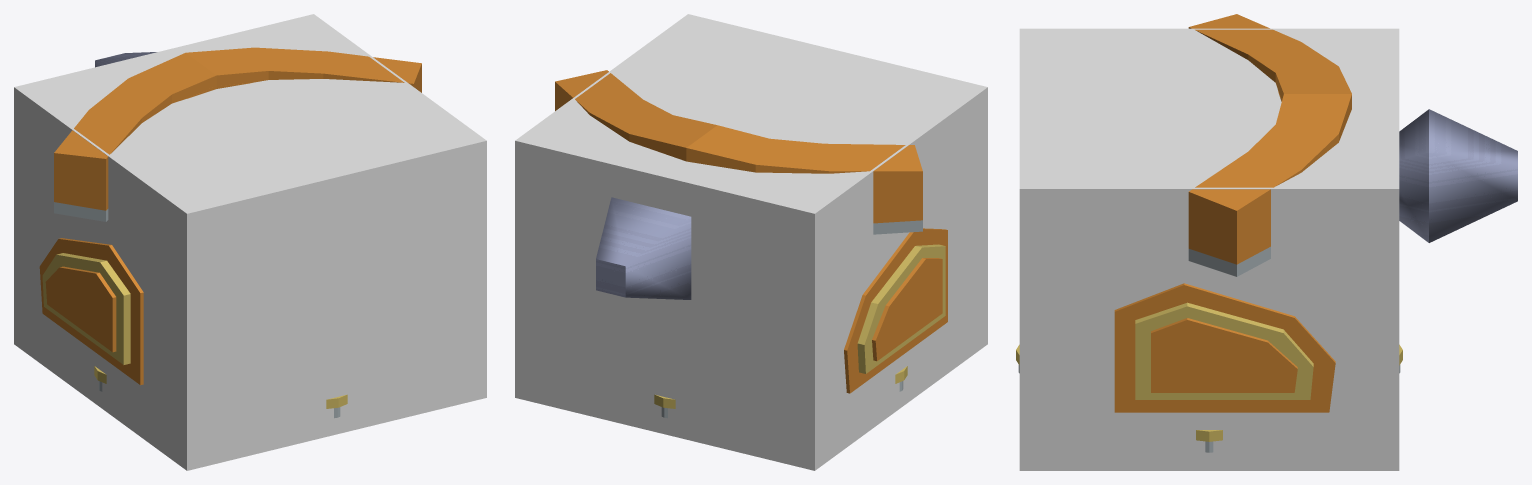
The model's file is crossbow.glb.
3 renders of one model, left to right at view 1: azimuth 30°, elevation 25°; view 2: azimuth 150°, elevation 25°; view 3: azimuth 270°, elevation 25°, orthographic. The views are drawn at different scales.
Parts seen in each view (by area): view 1: COL_BOX_01.001, upgrade_crossbow_l7_bow, upgrade_crossbow_l8_base, upgrade_crossbow_l3_base; view 2: COL_BOX_01.001, upgrade_crossbow_l7_bow, arrow, upgrade_crossbow_l8_base, upgrade_crossbow_l3_base; view 3: COL_BOX_01.001, upgrade_crossbow_l7_bow, upgrade_crossbow_l8_base, arrow, upgrade_crossbow_l3_base.
Part boxes in pixels (box(x1,y1,x2,y2)): COL_BOX_01.001: box(14, 14, 486, 470); upgrade_crossbow_l7_bow: box(54, 47, 421, 221); upgrade_crossbow_l8_base: box(42, 253, 130, 364); upgrade_crossbow_l3_base: box(39, 238, 143, 385); COL_BOX_01.001: box(515, 14, 987, 470); upgrade_crossbow_l7_bow: box(555, 70, 922, 234); arrow: box(596, 197, 691, 299); upgrade_crossbow_l8_base: box(857, 244, 945, 373); upgrade_crossbow_l3_base: box(844, 228, 947, 393); COL_BOX_01.001: box(1019, 28, 1399, 470); upgrade_crossbow_l7_bow: box(1188, 14, 1351, 276); upgrade_crossbow_l8_base: box(1135, 302, 1313, 399); arrow: box(1399, 109, 1517, 242); upgrade_crossbow_l3_base: box(1114, 283, 1335, 412).
Bounding box in the file's own units: 1.48 × 1.04 × 1.59.
Materials: 2 (1 with a texture image).
